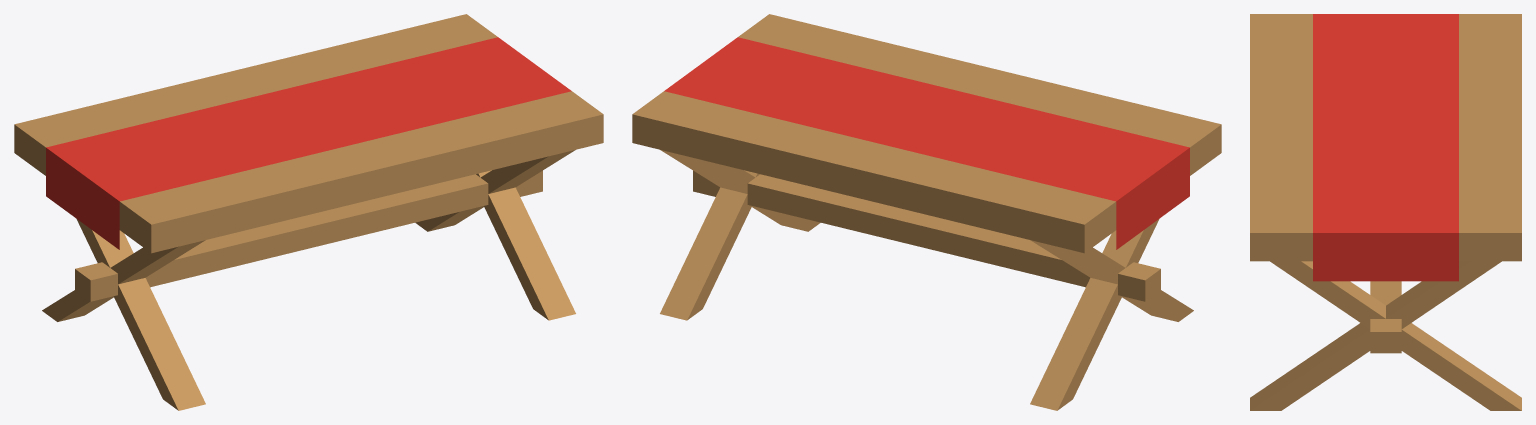
Rendered from Furniture_table_Cross_Cloth.fbx.
The picture shows the model from 3 angles, left to right: view 1: azimuth 30°, elevation 25°; view 2: azimuth 150°, elevation 25°; view 3: azimuth 270°, elevation 25°; orthographic projection.
Visible parts, largest first — view 1: tableCrossCloth; view 2: tableCrossCloth; view 3: tableCrossCloth.
Boxes of the visible parts, bbox=[...] form: tableCrossCloth: bbox=[14, 14, 603, 410]; tableCrossCloth: bbox=[632, 14, 1221, 410]; tableCrossCloth: bbox=[1250, 14, 1521, 410].
Size of the model in its own units: 852 by 347 by 447.
